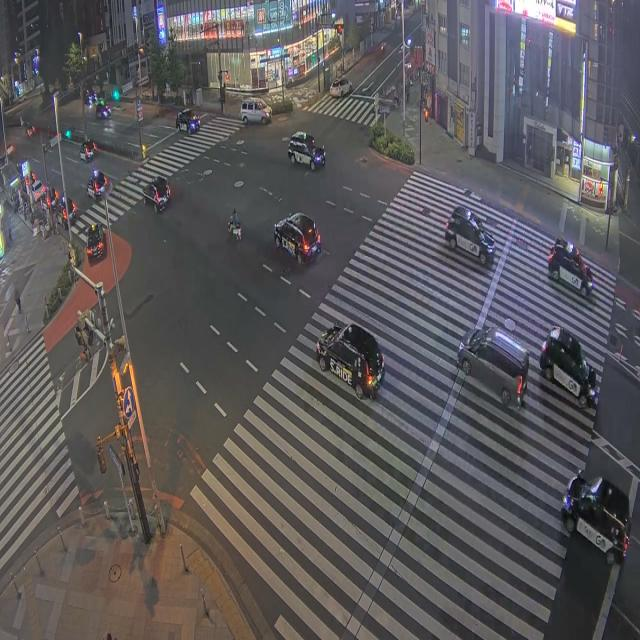car: (562, 473, 630, 564), (317, 324, 384, 399), (540, 328, 596, 407), (445, 207, 494, 265), (548, 239, 593, 296), (274, 214, 321, 263), (288, 132, 325, 170), (143, 176, 170, 212), (86, 224, 106, 261), (87, 171, 108, 199), (57, 195, 77, 224), (176, 110, 200, 133), (330, 78, 352, 97), (43, 184, 59, 207), (80, 141, 97, 162), (32, 181, 46, 201), (95, 103, 110, 119), (84, 90, 98, 106), (26, 124, 35, 137)
motorcycle: (228, 219, 241, 240), (26, 125, 35, 137)
van: (458, 328, 528, 407), (240, 98, 271, 124)
